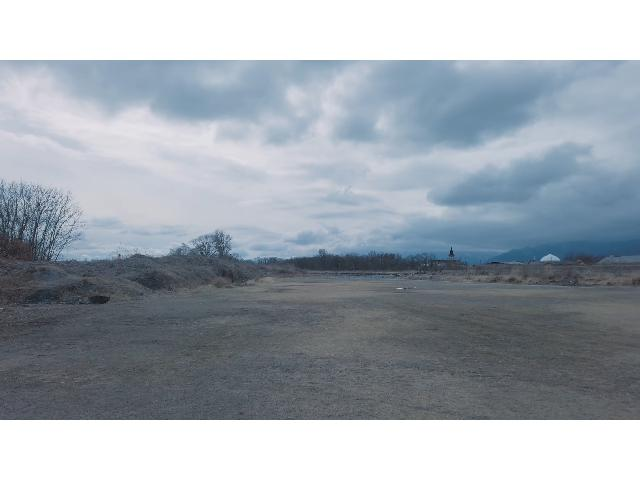Anti-Drone: (389, 283, 419, 293)
